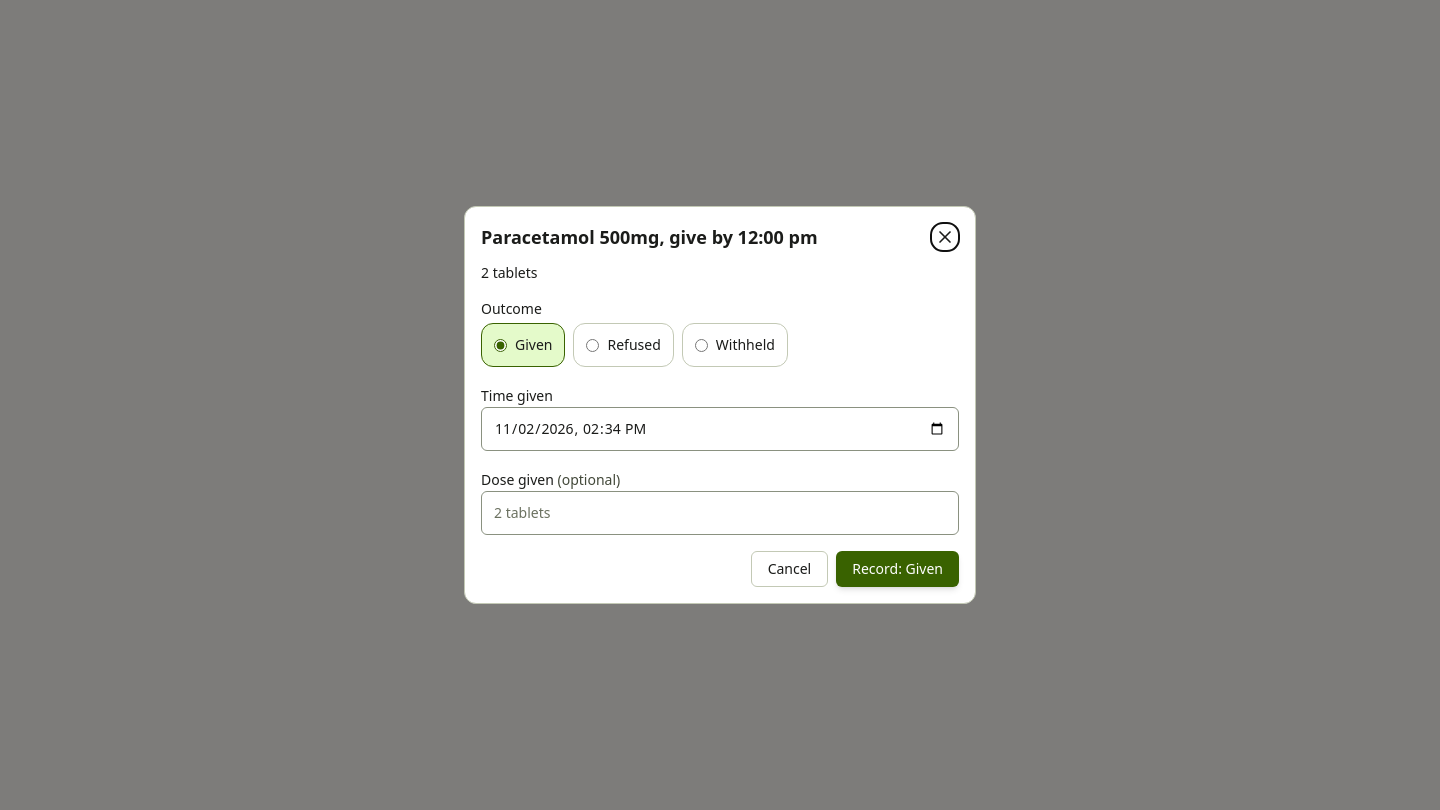
Test: DoseSheet: competency, errors, offline › shows a too-early dose time message on the time field
Step 1. Click the button "Record: Given" → (898, 569), box [836,551,959,587]
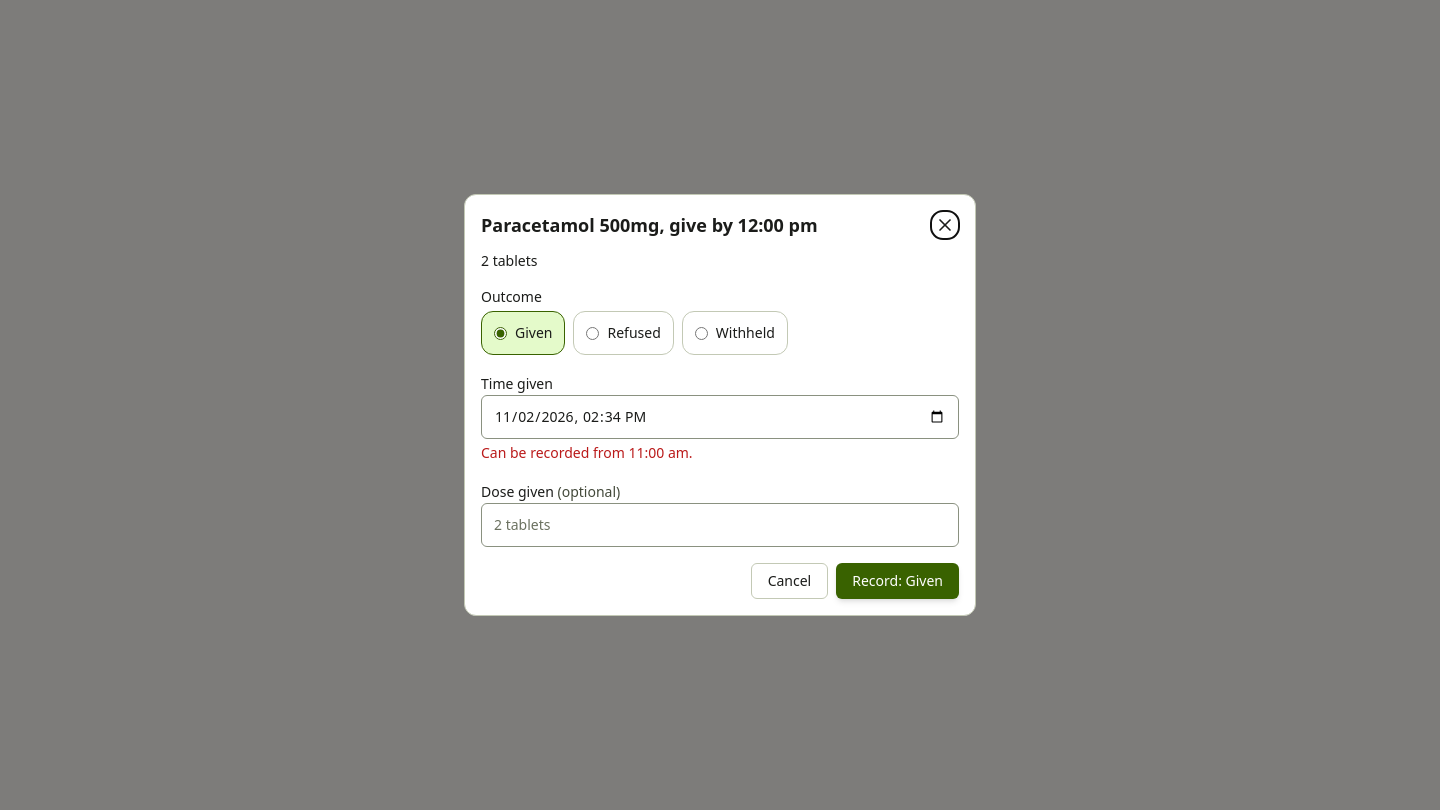
Now the text "Can be recorded from 11:00 am." is shown, box [481,443,693,462]
